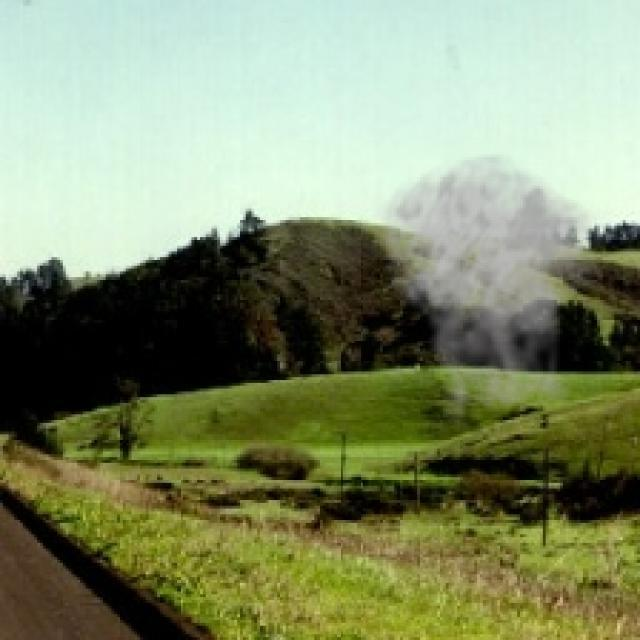Smoke: (372, 152, 612, 428)
